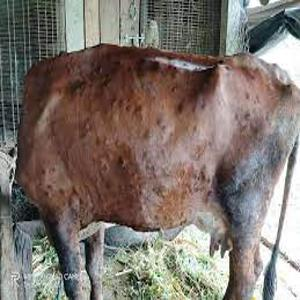lumpy skin diesease: (14, 42, 299, 299)
